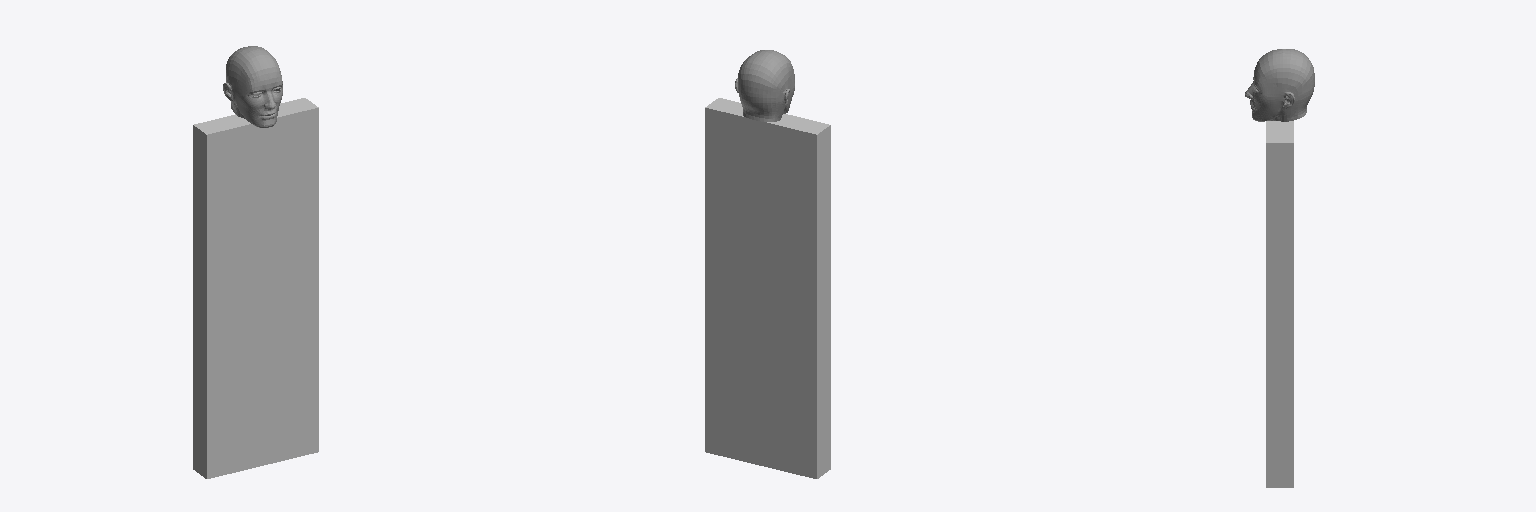
The model's file is humanBody.obj.
3 renders of one model, left to right at view 1: azimuth 30°, elevation 25°; view 2: azimuth 150°, elevation 25°; view 3: azimuth 270°, elevation 25°, orthographic.
Parts seen in each view (by area): view 1: Cube_Cube.001, object0; view 2: Cube_Cube.001, object0; view 3: Cube_Cube.001, object0.
Part boxes in pixels (bbox=[...]): Cube_Cube.001: bbox=[193, 98, 318, 478]; object0: bbox=[223, 46, 282, 127]; Cube_Cube.001: bbox=[705, 98, 830, 478]; object0: bbox=[735, 50, 794, 121]; Cube_Cube.001: bbox=[1266, 121, 1293, 487]; object0: bbox=[1245, 49, 1314, 121].
Size of the model in its own units: 65.17 by 228 by 35.42.